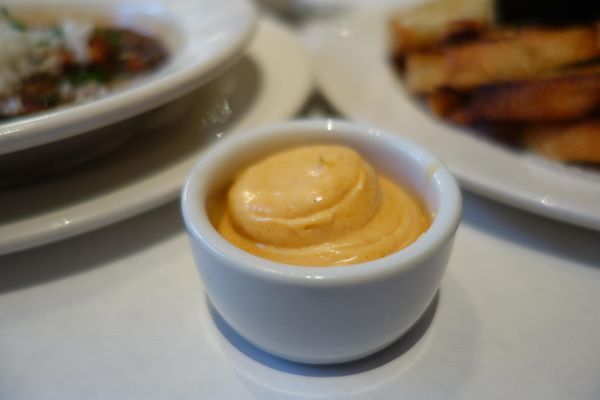sushi: (180, 115, 465, 365), (1, 1, 258, 186)
